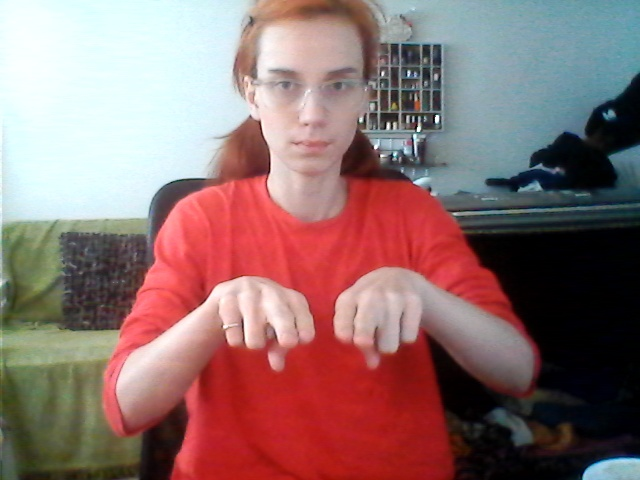brat: (216, 266, 429, 388)
